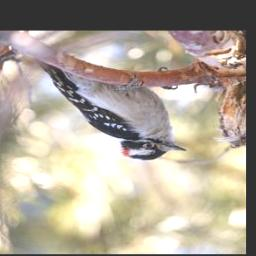Woodpecker: (37, 58, 187, 160)
